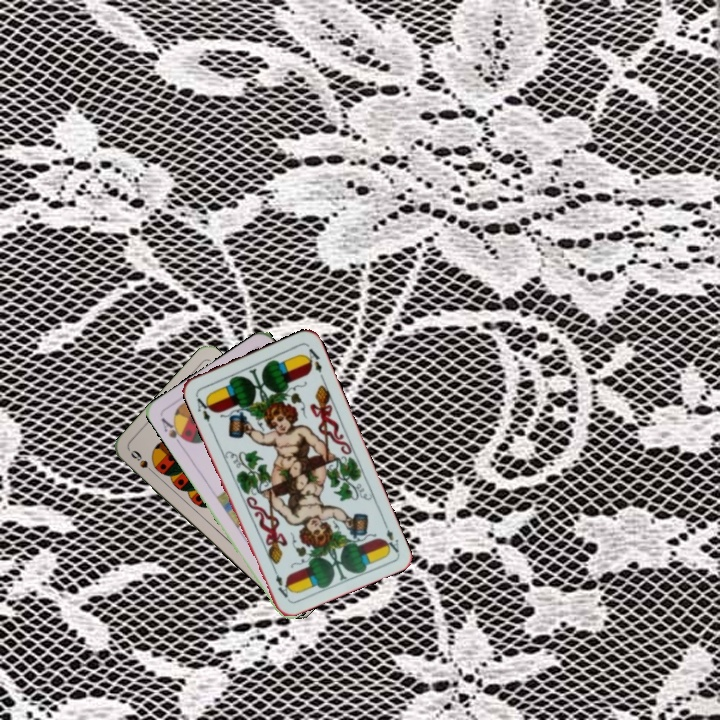EA: (192, 391, 215, 430), (379, 517, 402, 556)
S9: (126, 446, 159, 478)
SA: (157, 413, 190, 449)
